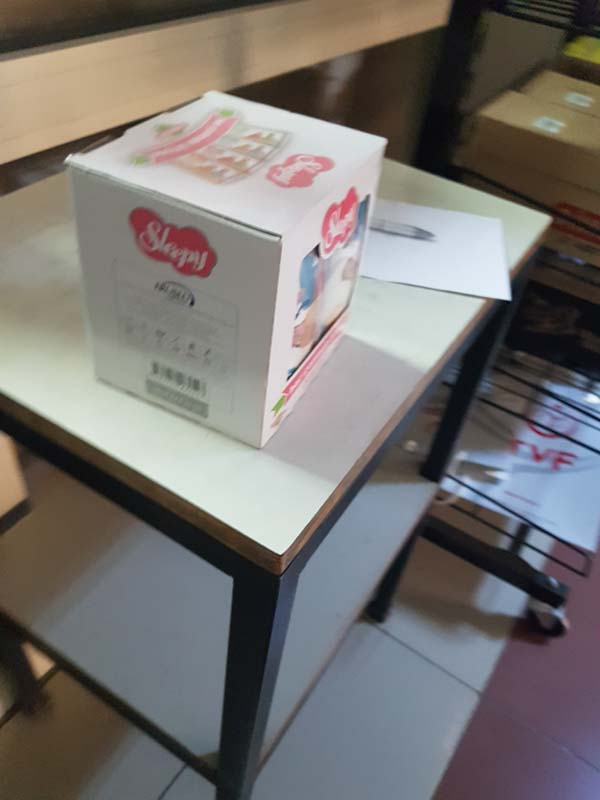sleepyogrencikoli: (52, 80, 396, 474)
